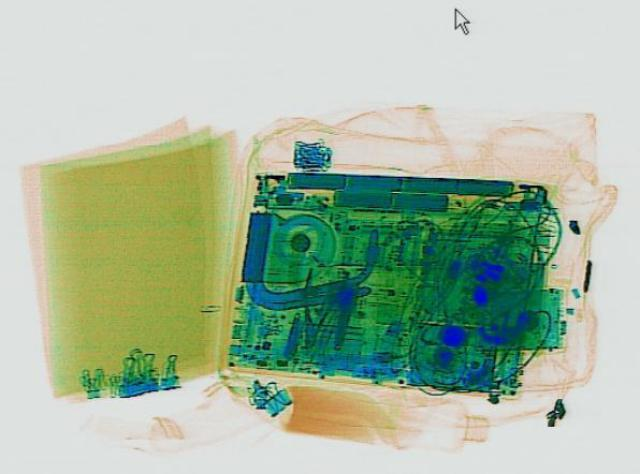Pliers: (284, 264, 350, 348)
